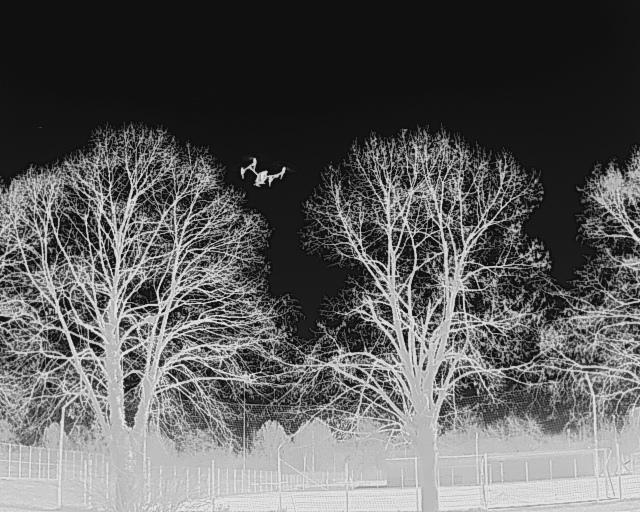drone: (234, 153, 293, 198)
